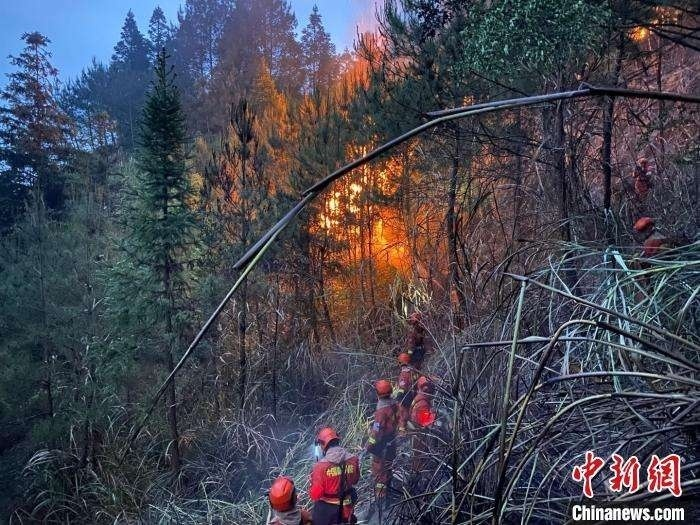fire: (310, 139, 417, 274), (628, 18, 656, 42)
